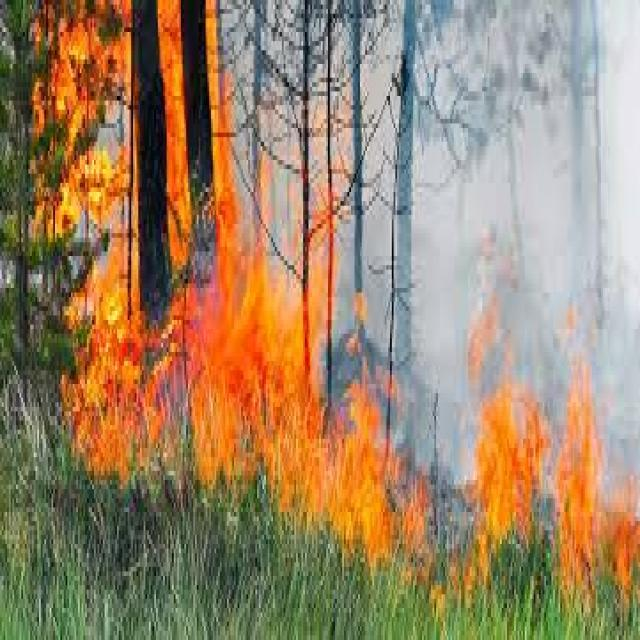Fire: (192, 278, 328, 504), (34, 0, 132, 233), (558, 361, 640, 608), (464, 383, 552, 594), (81, 270, 165, 470), (331, 387, 411, 555), (255, 133, 343, 264), (157, 0, 193, 251), (208, 7, 240, 220)
Smoke: (376, 5, 640, 325)
